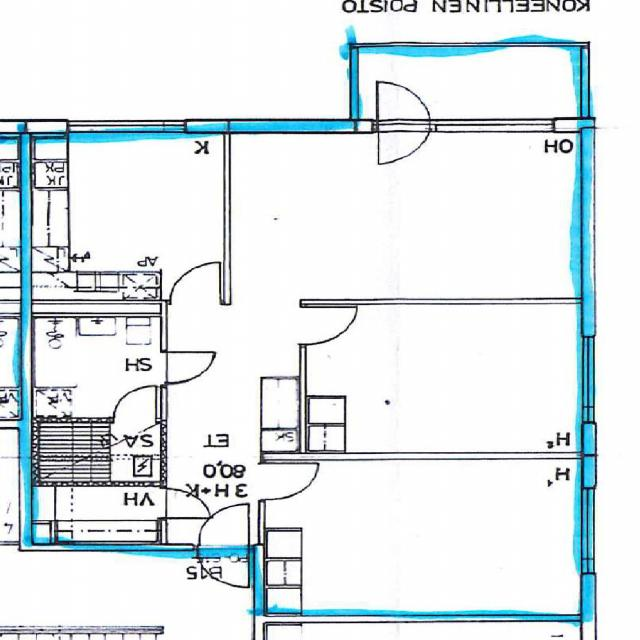door: (377, 78, 429, 132), (377, 118, 429, 171), (198, 503, 250, 549), (197, 542, 249, 588), (300, 307, 357, 344), (171, 262, 220, 304), (258, 463, 314, 499), (161, 352, 209, 384), (114, 387, 155, 422), (161, 488, 207, 518)
